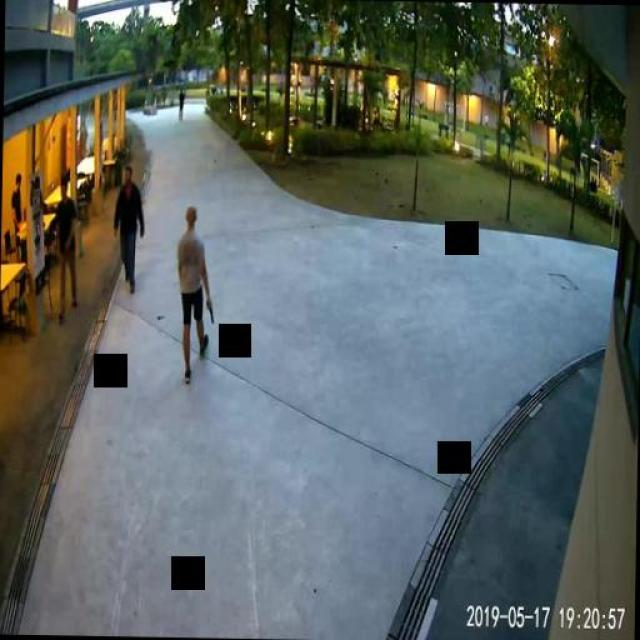gun: (204, 296, 212, 320)
